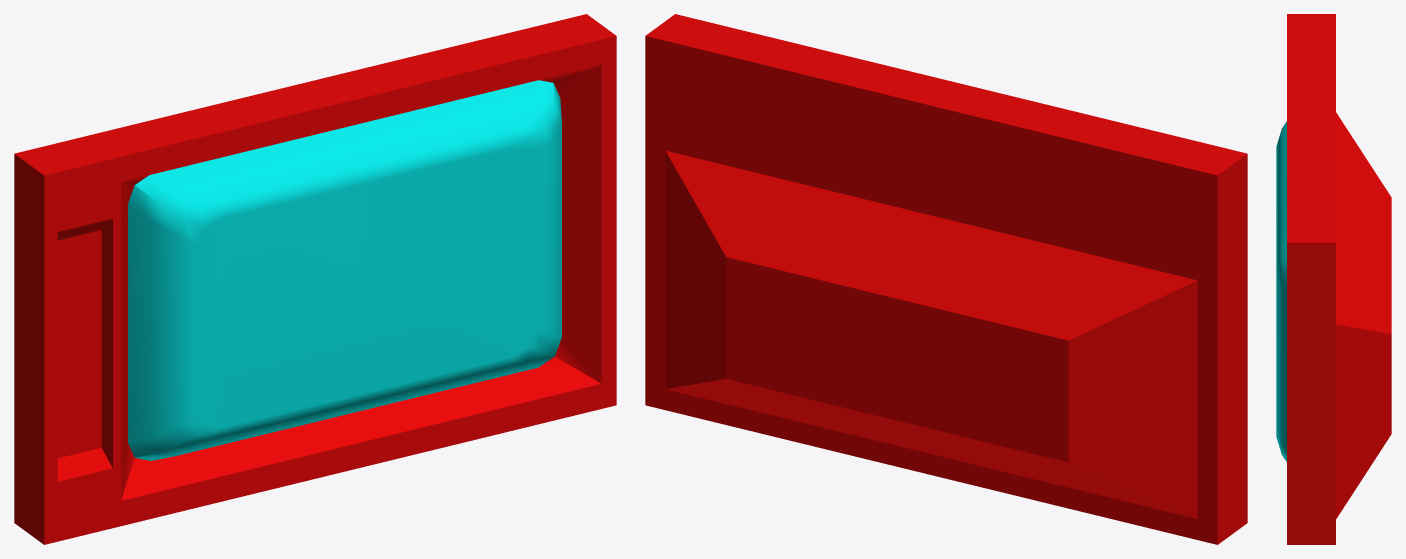
File: Monitor.fbx
The picture shows the model from 3 angles, left to right: view 1: azimuth 30°, elevation 25°; view 2: azimuth 150°, elevation 25°; view 3: azimuth 270°, elevation 25°; orthographic projection. The views are drawn at different scales.
Visible parts, largest first — view 1: Screen, MonitorBase; view 2: MonitorBase; view 3: MonitorBase, Screen.
Part boxes in pixels (x1,y1,x2,y2): Screen: (128,80,561,460); MonitorBase: (14,14,616,544); MonitorBase: (645,14,1247,544); MonitorBase: (1287,14,1391,544); Screen: (1276,121,1286,461).
Size of the model in its own units: 1.01 by 0.6248 by 0.2161.
